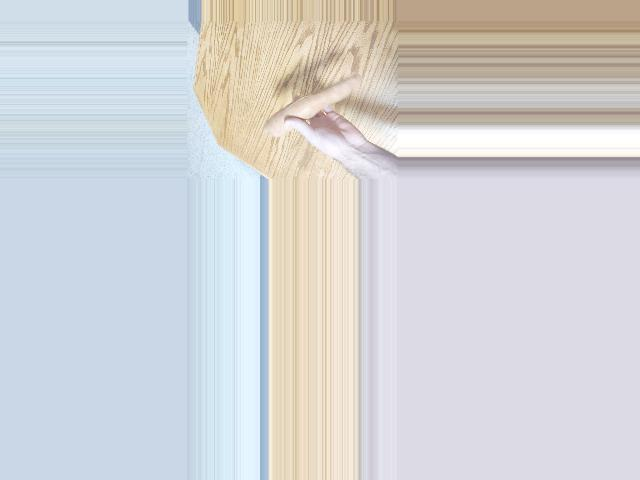sweet_potato: (253, 81, 360, 133)
